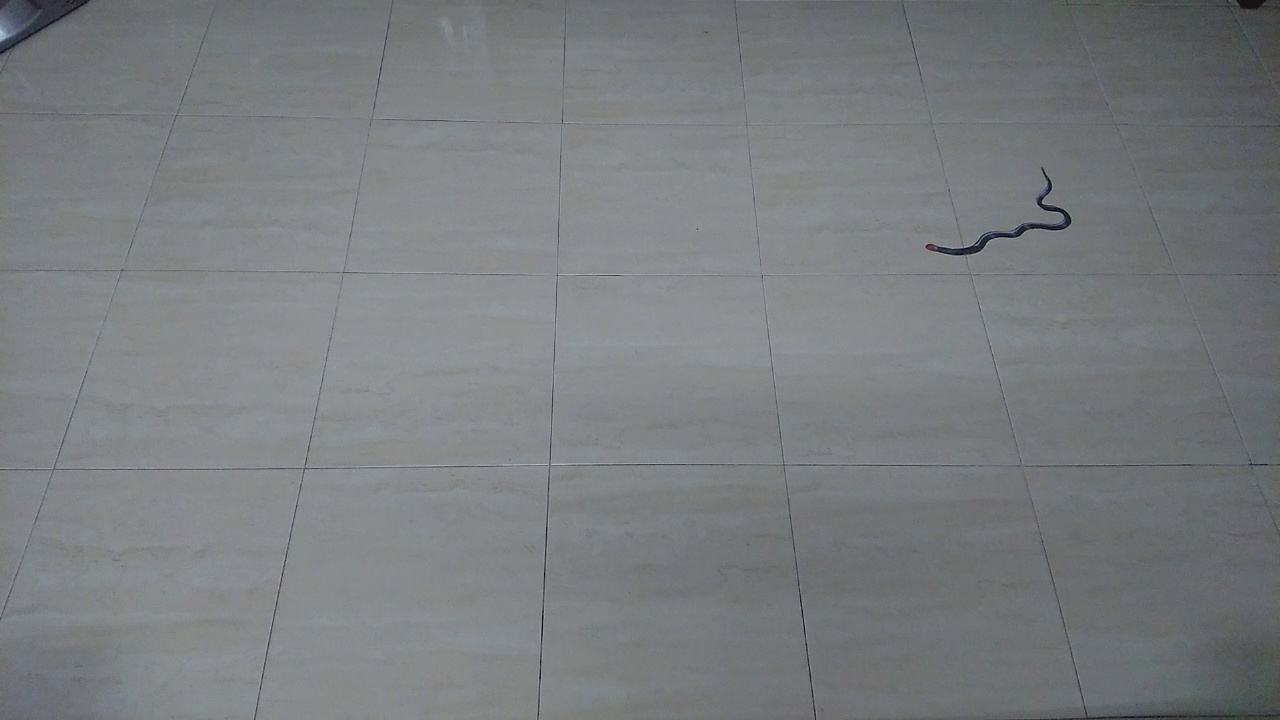snake: (913, 158, 1082, 266)
